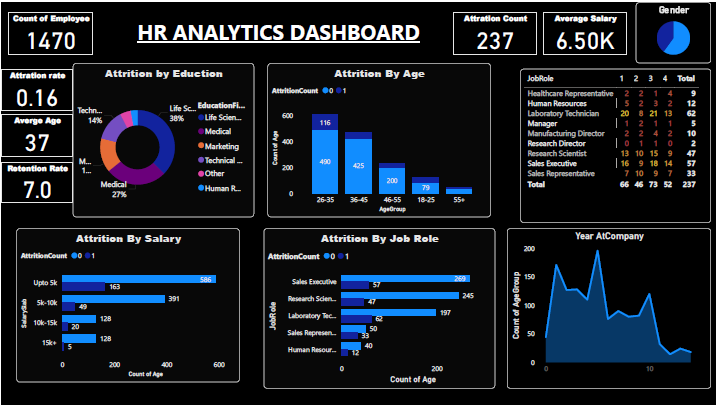

The page's visual inventory and layout, read from the dashboard file:
{"tool":"powerbi","page":{"name":"Page 1","canvas":[1280,720],"ordinal":0},"visuals":[{"type":"card","title":"Count of Employee","fields":{"Values":["CountNonNull(HR_Analytics.EmpID)"]},"box":[13.5,17.2,150.9,76.1],"z":0},{"type":"card","title":"Attration Count","fields":{"Values":["Sum(HR_Analytics.AttritionCount)"]},"box":[808.6,17.2,150.9,76.1],"z":1000},{"type":"card","title":"Attration rate","fields":{"Values":["HR_Analytics.AttritionRate"]},"box":[0,119,127.6,76.1],"z":2000},{"type":"card","title":"Averge Age","fields":{"Values":["Avg(HR_Analytics.Age)"]},"box":[0,200,127.6,76.1],"z":3000},{"type":"card","title":"Average Salary","fields":{"Values":["Avg(HR_Analytics.MonthlyIncome)"]},"box":[970.6,17.2,150.9,76.1],"z":4000},{"type":"card","title":"Retention Rate","fields":{"Values":["Avg(HR_Analytics.YearsAtCompany)"]},"box":[0,285.9,127.6,73.6],"z":5000},{"type":"donutChart","title":"Attrition by Eduction","fields":{"Category":["HR_Analytics.EducationField"],"Y":["Sum(HR_Analytics.AttritionCount)"]},"box":[127.6,109.2,325.2,276.1],"z":6000},{"type":"columnChart","title":"Attrition By Age","fields":{"Y":["CountNonNull(HR_Analytics.Age)"],"Category":["HR_Analytics.AgeGroup"],"Series":["HR_Analytics.AttritionCount"]},"box":[477.3,109.2,400,276.1],"z":7000},{"type":"pivotTable","fields":{"Rows":["HR_Analytics.JobRole"],"Columns":["HR_Analytics.JobSatisfaction"],"Values":["Sum(HR_Analytics.AttritionCount)"]},"box":[930.1,119,342.3,276.1],"z":8000},{"type":"clusteredBarChart","title":"Attrition By Salary","fields":{"Category":["HR_Analytics.SalarySlab"],"Y":["CountNonNull(HR_Analytics.Age)"],"Series":["HR_Analytics.AttritionCount"]},"box":[27,404.9,400,276.1],"z":9000},{"type":"clusteredBarChart","title":"Attrition By Job Role","fields":{"Y":["CountNonNull(HR_Analytics.Age)"],"Series":["HR_Analytics.AttritionCount"],"Category":["HR_Analytics.JobRole"]},"box":[469.9,404.9,414.7,287.1],"z":10000},{"type":"areaChart","title":"Year AtCompany","fields":{"Category":["HR_Analytics.YearsAtCompany"],"Y":["CountNonNull(HR_Analytics.AgeGroup)"]},"box":[905.5,404.9,366.9,287.1],"z":11000},{"type":"pieChart","title":"Gender","fields":{"Y":["CountNonNull(HR_Analytics.Gender)"],"Category":["HR_Analytics.Gender"]},"box":[1137.4,0,135,109.2],"z":12000},{"type":"textbox","box":[184.1,23.3,624.5,104.3],"z":12001}]}

Visuals, with their boxes in screenshot pixels (x1, y1, x2, y2), scaled from the page's 1280x720 canvas onto the 718x406 screenshot:
"Count of Employee" card: {"x1": 8, "y1": 10, "x2": 92, "y2": 53}
"Attration Count" card: {"x1": 454, "y1": 10, "x2": 538, "y2": 53}
"Attration rate" card: {"x1": 0, "y1": 67, "x2": 72, "y2": 110}
"Averge Age" card: {"x1": 0, "y1": 113, "x2": 72, "y2": 156}
"Average Salary" card: {"x1": 544, "y1": 10, "x2": 629, "y2": 53}
"Retention Rate" card: {"x1": 0, "y1": 161, "x2": 72, "y2": 203}
"Attrition by Eduction" donutChart: {"x1": 72, "y1": 62, "x2": 254, "y2": 217}
"Attrition By Age" columnChart: {"x1": 268, "y1": 62, "x2": 492, "y2": 217}
pivotTable - HR_Analytics.JobRole x HR_Analytics.JobSatisfaction: {"x1": 522, "y1": 67, "x2": 714, "y2": 223}
"Attrition By Salary" clusteredBarChart: {"x1": 15, "y1": 228, "x2": 240, "y2": 384}
"Attrition By Job Role" clusteredBarChart: {"x1": 264, "y1": 228, "x2": 496, "y2": 390}
"Year AtCompany" areaChart: {"x1": 508, "y1": 228, "x2": 714, "y2": 390}
"Gender" pieChart: {"x1": 638, "y1": 0, "x2": 714, "y2": 62}
textbox: {"x1": 103, "y1": 13, "x2": 454, "y2": 72}
